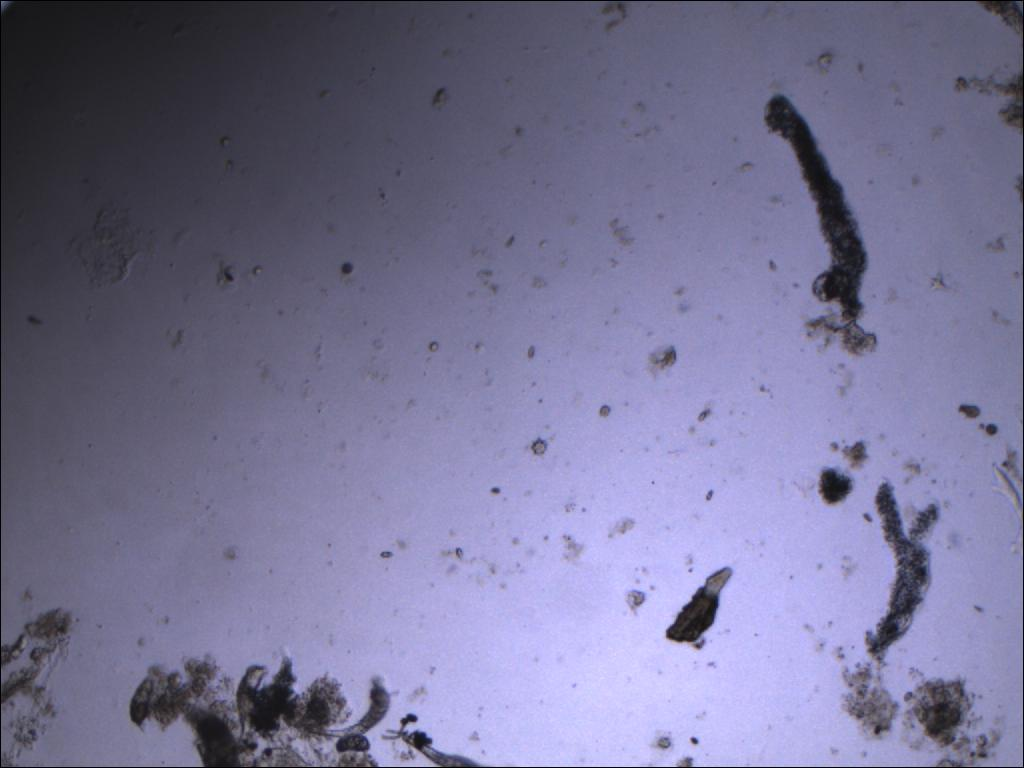amoeba: (750, 87, 873, 323), (863, 475, 949, 669)
